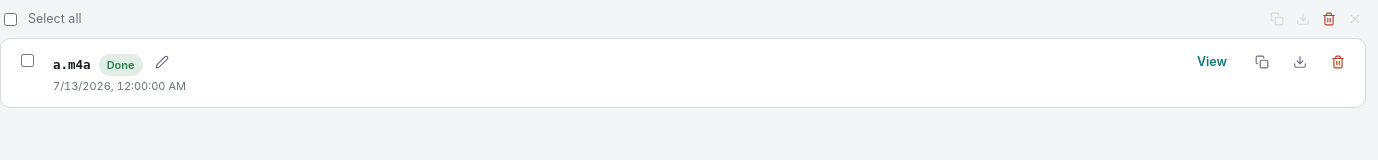
Test: HistoryView › renaming › clicking the pencil turns the filename into an editable input, pre-filled with the current name
Expected: the text "a.m4a" is shown, [53,56,91,75]
Click the button named "Rename" at (162, 62), box [150,51,172,73]
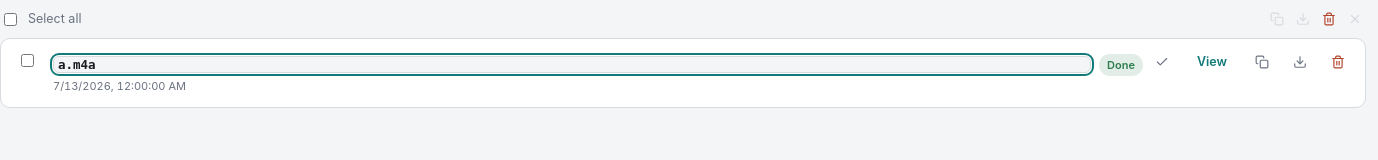
Result: the field named "Rename" holds "a.m4a" at [53,56,1091,73]
